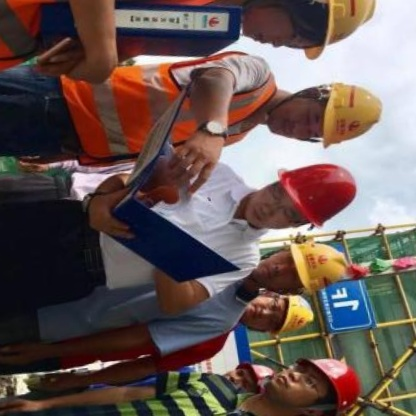red: (266, 150, 366, 236), (288, 348, 367, 416)
vest: (52, 43, 286, 173), (0, 0, 264, 88)
yellow: (278, 0, 388, 62), (309, 74, 392, 155), (281, 234, 354, 298), (262, 288, 327, 346)
